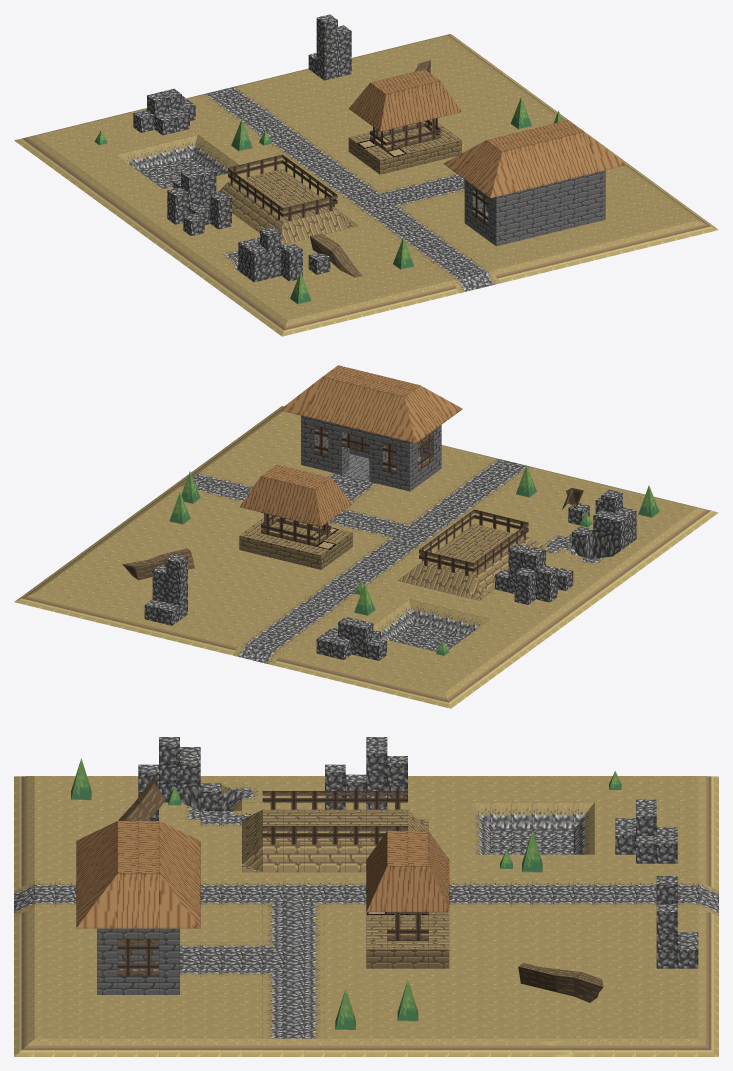
Rendered from stage2_1.obj.
3 views of the same model, one above another, from view 1: azimuth 30°, elevation 25°; view 2: azimuth 150°, elevation 25°; view 3: azimuth 270°, elevation 25° (orthographic). The views are drawn at different scales.
Parts seen in each view (by area): view 1: Default; view 2: Default; view 3: Default.
Boxes of the visible parts, left/top/right/bottom form: Default: left=14, top=14, right=718, bottom=336; Default: left=14, top=365, right=718, bottom=708; Default: left=14, top=737, right=718, bottom=1056.
Bounding box in the file's own units: 32 × 11 × 34.
2 materials, 2 textured.
